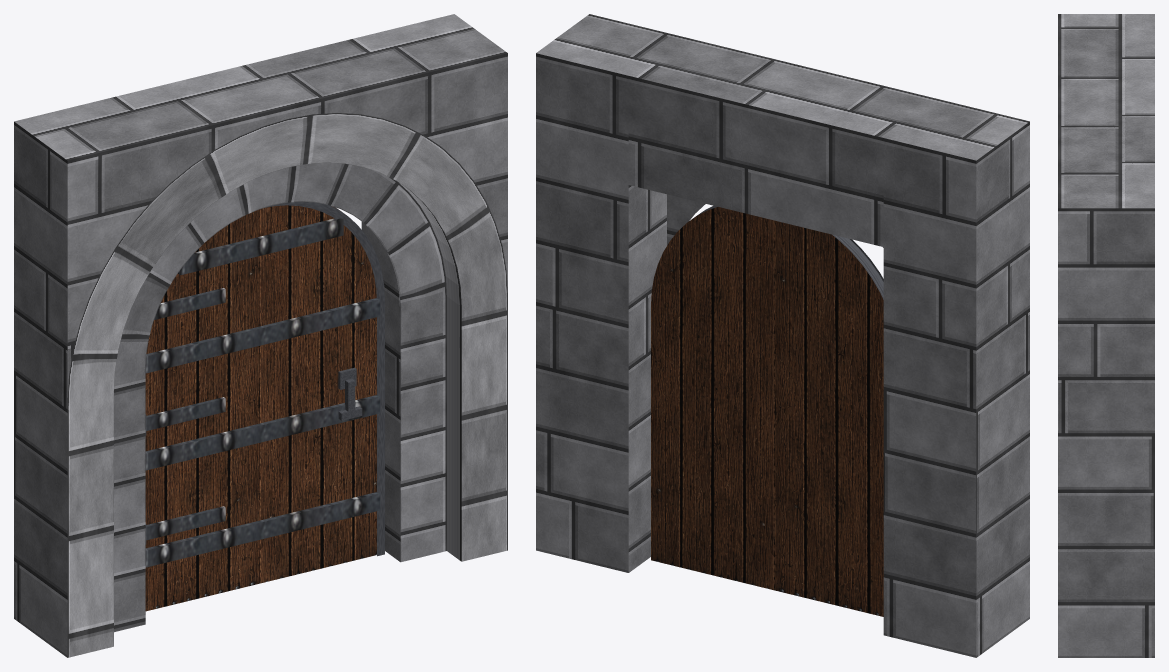
File: Door.glb
3 renders of one model, left to right at view 1: azimuth 30°, elevation 25°; view 2: azimuth 150°, elevation 25°; view 3: azimuth 270°, elevation 25°, orthographic. The views are drawn at different scales.
Parts seen in each view (by area): view 1: Wall, Door; view 2: Wall, Door; view 3: Wall.
Part boxes in pixels (left/top/right/bottom): Wall: left=14, top=14, right=507, bottom=657; Door: left=145, top=201, right=384, bottom=611; Wall: left=536, top=14, right=1029, bottom=657; Door: left=651, top=205, right=883, bottom=616; Wall: left=1058, top=14, right=1154, bottom=657.
Size of the model in its own units: 3.8 by 4.1 by 0.8.
Materials: 1 (1 with a texture image).
